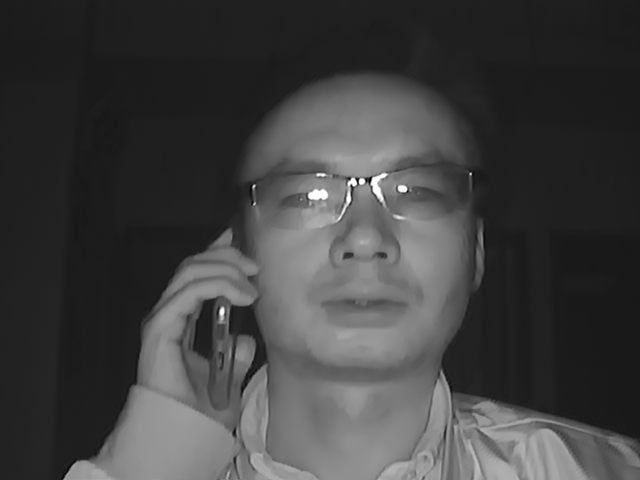hand: (134, 229, 261, 406)
